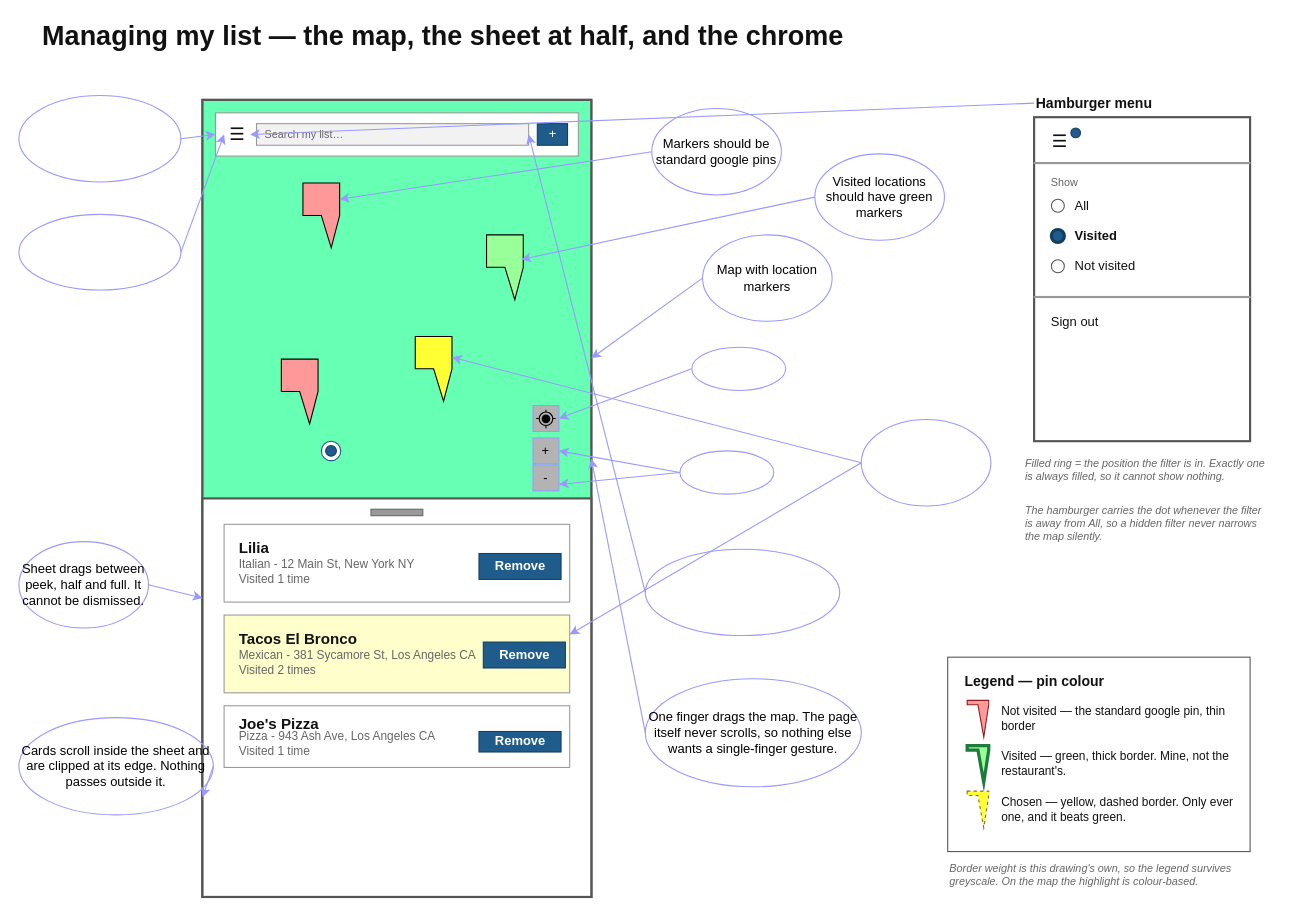
Some shapes in this 1291 by 916 pixel diagram are drawn without their labels. The shapes that lost their labels are listed below. From the top down, each one's box as (x1, y1, x2, y2) in pixels, then its label:
(18, 94, 181, 182): Chrome floats over the map. No header, no page title.
(18, 213, 181, 290): Sign out lives behind hamburger
(691, 346, 786, 390): "Locate Me" button
(679, 450, 774, 494): Map zoom
(860, 418, 991, 506): Highlight is color-based
(644, 548, 840, 636): Search stays in the row, and still floats above the sheet at full
